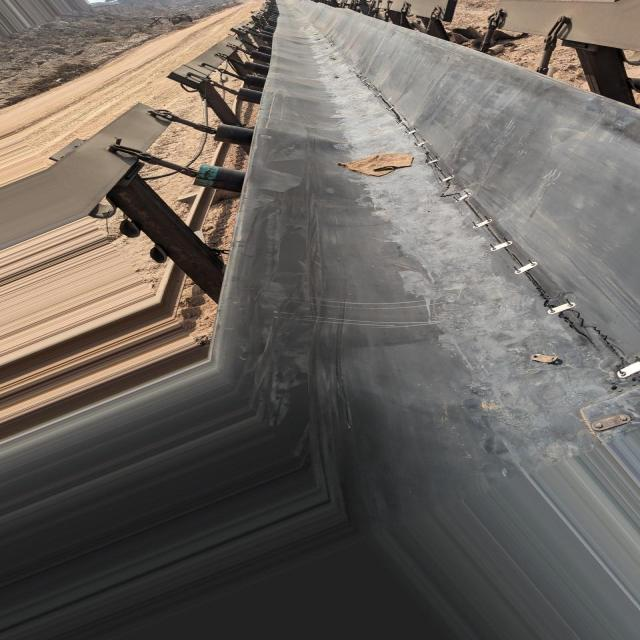Other Objects: (336, 153, 414, 177)
Roller: (235, 15, 279, 102), (194, 165, 246, 193), (213, 125, 256, 146)
patch work: (358, 87, 640, 387), (582, 382, 640, 443)
